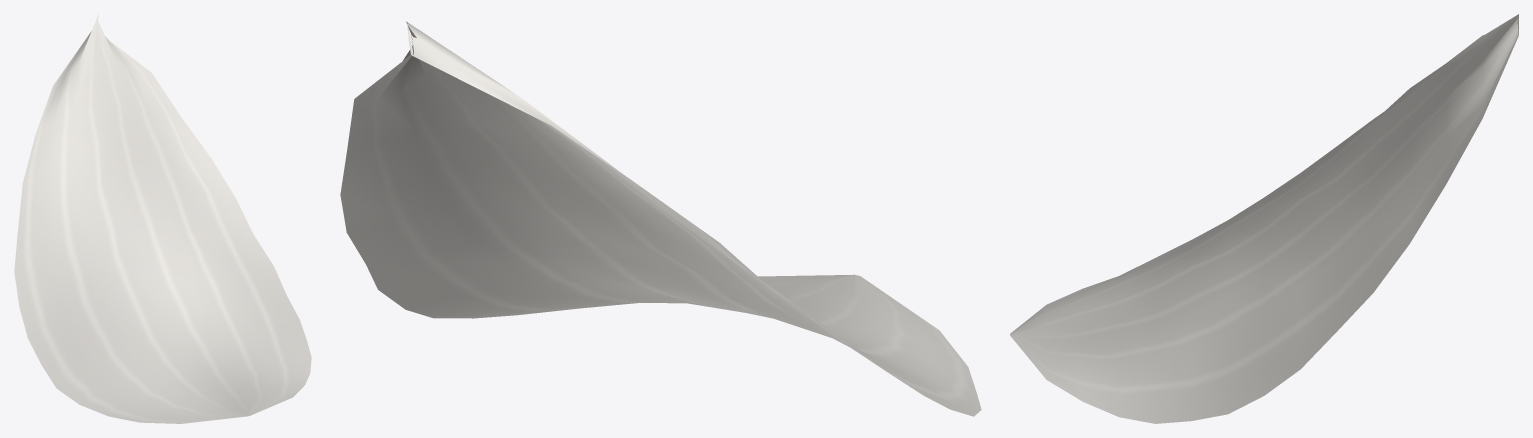
The model's file is petal_07_large.glb.
3 renders of one model, left to right at view 1: azimuth 30°, elevation 25°; view 2: azimuth 150°, elevation 25°; view 3: azimuth 270°, elevation 25°, orthographic. The views are drawn at different scales.
Parts seen in each view (by area): view 1: petal_07_large; view 2: petal_07_large; view 3: petal_07_large.
Part boxes in pixels (x1,y1,x2,y2): petal_07_large: (14,14,311,423); petal_07_large: (340,21,981,416); petal_07_large: (1010,14,1518,423).
Size of the model in its own units: 0.0903 by 0.0887 by 0.1132.
Materials: 1 (1 with a texture image).
